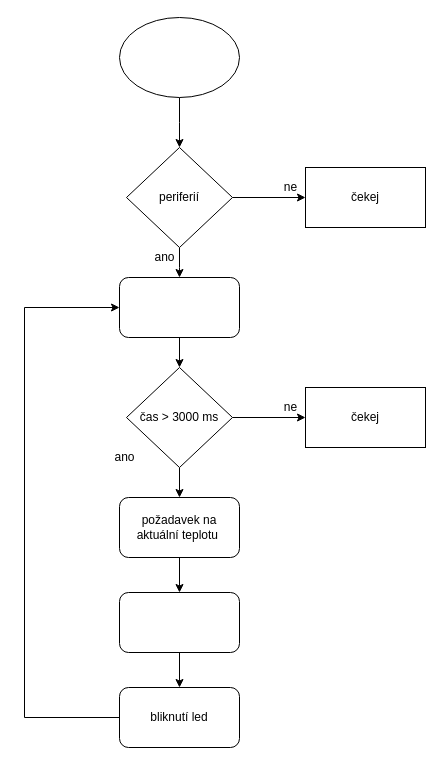
This 443x765 diagram has some shape labels left out. The shapes that lost their labels are listed below. From the top down, each one's box as (x1, y1, x2, y2) in pixels, then its label:
(118, 16, 240, 98): int main()
(118, 276, 240, 338): while(1)
(118, 592, 240, 652): zapiš na displej
